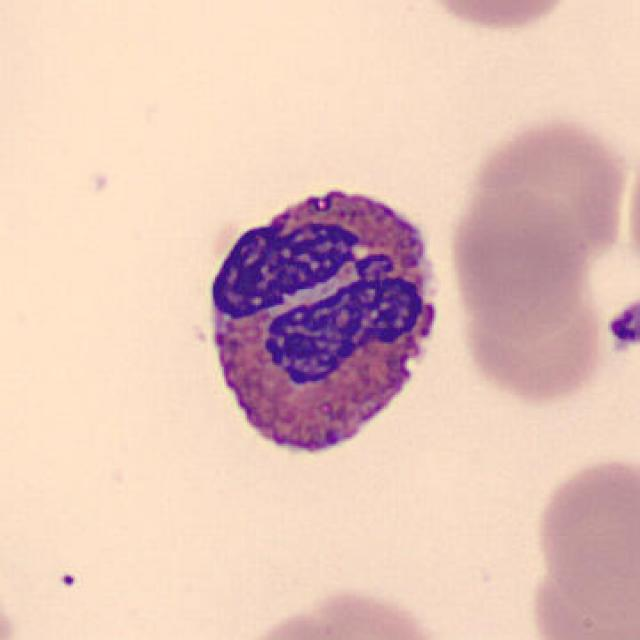Eosinophil: (192, 166, 460, 478)
Platelets: (602, 294, 640, 356)
RBC: (453, 111, 633, 273), (451, 238, 617, 407), (444, 184, 594, 340), (530, 448, 638, 622), (231, 583, 451, 640), (524, 560, 638, 640), (410, 0, 583, 35)
